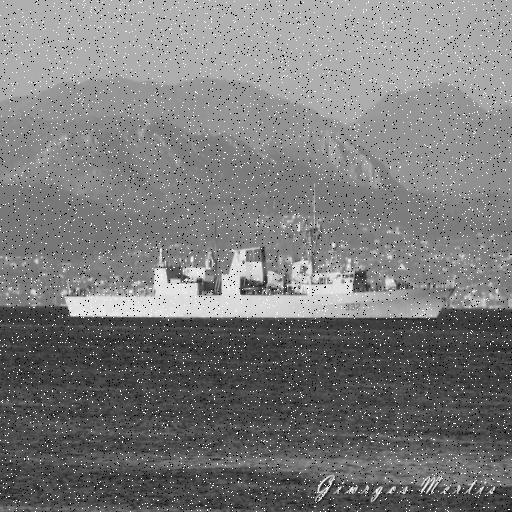Fragata: (63, 185, 460, 326)
